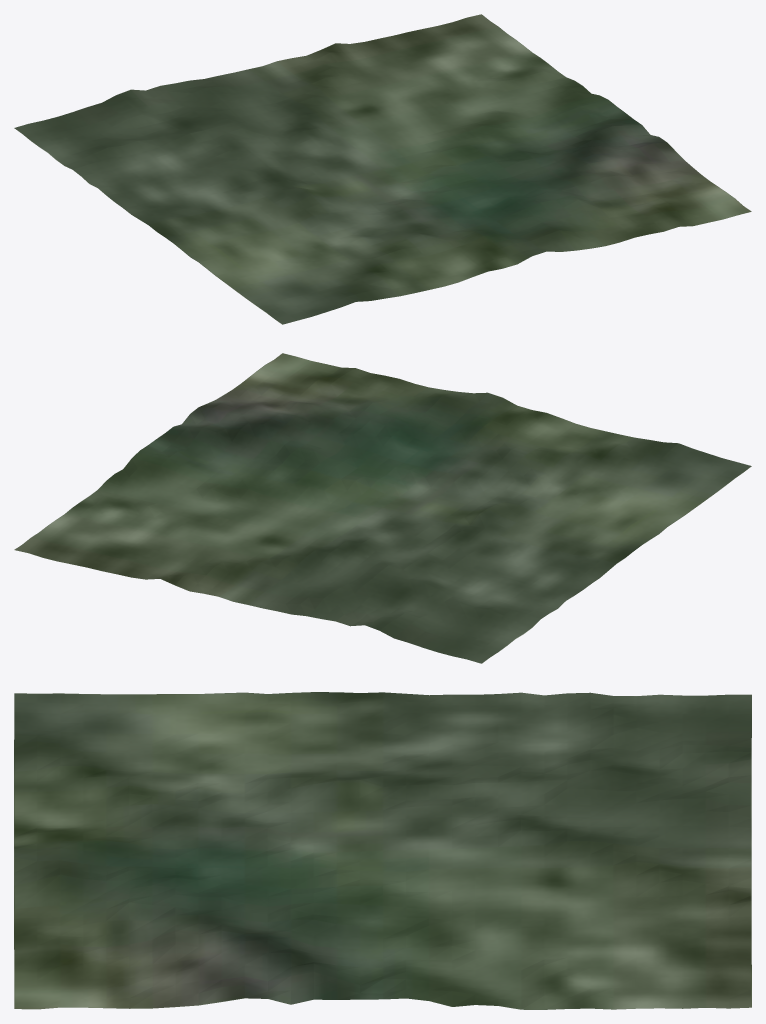
The picture shows the model from 3 angles, top to bottom: view 1: azimuth 30°, elevation 25°; view 2: azimuth 150°, elevation 25°; view 3: azimuth 270°, elevation 25°; orthographic projection. The views are drawn at different scales.
Size of the model in its own units: 31113 by 991 by 30940.
1 material, 1 textured.
